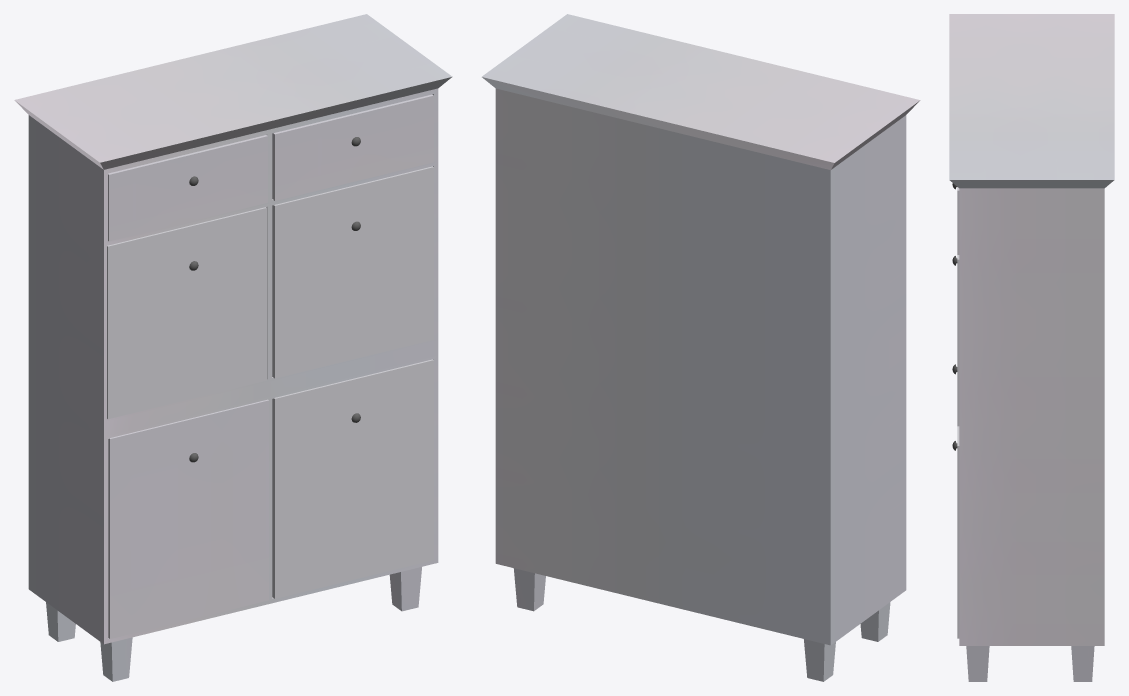
Rendered from chest_of_drawers.FBX.
3 views of the same model, side by side, from view 1: azimuth 30°, elevation 25°; view 2: azimuth 150°, elevation 25°; view 3: azimuth 270°, elevation 25° (orthographic). The views are drawn at different scales.
Parts seen in each view (by area): view 1: RC_Furn_Dresser, RC_Furn_Dresser_Drawer6, RC_Furn_Dresser_Drawer5, RC_Furn_Dresser_Drawer4, RC_Furn_Dresser_Drawer3, RC_Furn_Dresser_Drawer2, RC_Furn_Dresser_Drawer1; view 2: RC_Furn_Dresser; view 3: RC_Furn_Dresser, RC_Furn_Dresser_Drawer6, RC_Furn_Dresser_Drawer4.
Boxes of the visible parts, left/top/right/bottom form: RC_Furn_Dresser: left=14, top=14, right=452, bottom=681; RC_Furn_Dresser_Drawer6: left=272, top=359, right=433, bottom=598; RC_Furn_Dresser_Drawer5: left=108, top=399, right=268, bottom=638; RC_Furn_Dresser_Drawer4: left=272, top=166, right=433, bottom=378; RC_Furn_Dresser_Drawer3: left=107, top=207, right=266, bottom=419; RC_Furn_Dresser_Drawer2: left=272, top=94, right=433, bottom=200; RC_Furn_Dresser_Drawer1: left=108, top=135, right=267, bottom=241; RC_Furn_Dresser: left=482, top=14, right=920, bottom=681; RC_Furn_Dresser: left=949, top=14, right=1114, bottom=681; RC_Furn_Dresser_Drawer6: left=952, top=426, right=959, bottom=638; RC_Furn_Dresser_Drawer4: left=952, top=255, right=959, bottom=426.
Size of the model in its own units: 2.21 by 3.18 by 0.9297.
1 material, 1 textured.
